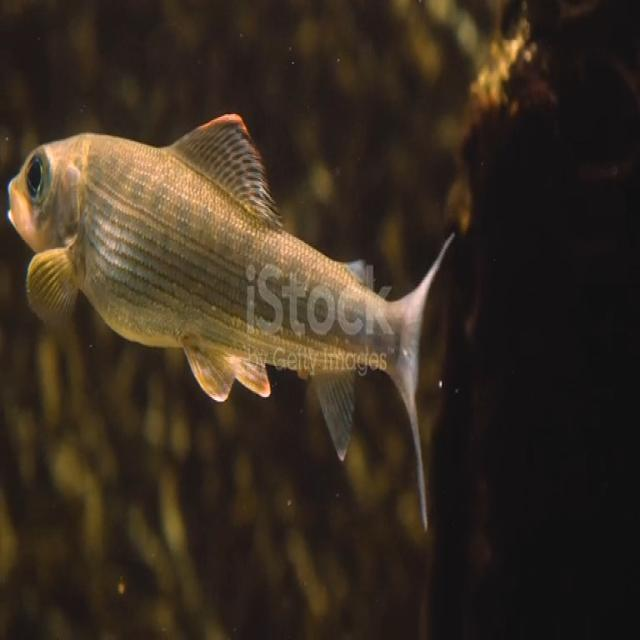fish: (2, 94, 462, 543)
